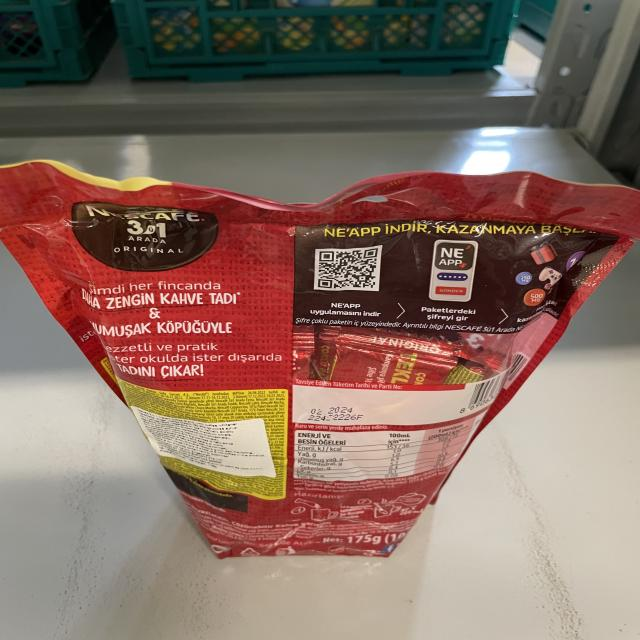object_name: (6, 173, 632, 560)
